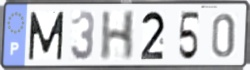0: (210, 12, 239, 59)
2: (140, 10, 166, 62)
3: (70, 9, 96, 63)
5: (177, 10, 201, 61)
H: (98, 9, 138, 63)
M: (27, 10, 66, 63)
